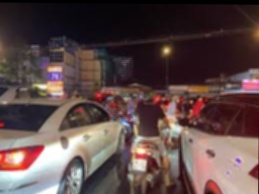Bien-so: (130, 159, 147, 172)
